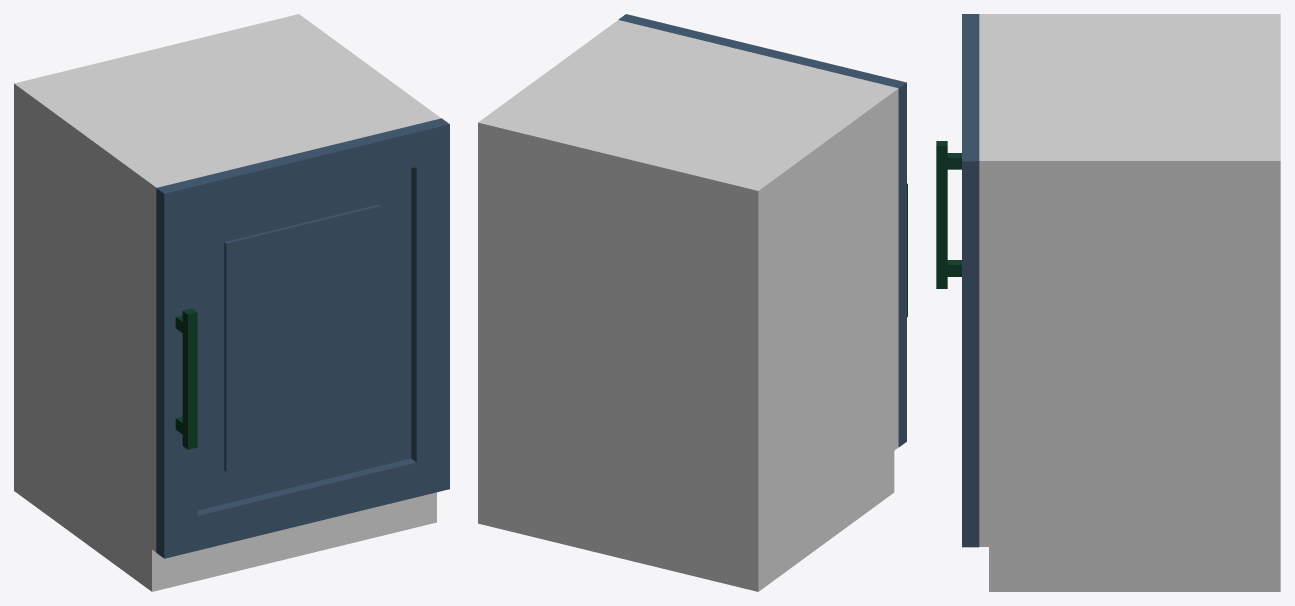
The model's file is CustomMeshCollision_Kitchen_Furniture_Counter_Separate.fbx.
3 renders of one model, left to right at view 1: azimuth 30°, elevation 25°; view 2: azimuth 150°, elevation 25°; view 3: azimuth 270°, elevation 25°, orthographic. The views are drawn at different scales.
Visible parts, largest first — view 1: CounterwithDoor_Door_MeshCollision, CounterwithDoor_Body_MeshCollision; view 2: CounterwithDoor_Body_MeshCollision, CounterwithDoor_Door_MeshCollision; view 3: CounterwithDoor_Body_MeshCollision, CounterwithDoor_Door_MeshCollision.
Boxes of the visible parts, x1,y1,x2,y2 form: CounterwithDoor_Door_MeshCollision: (156, 118, 449, 558); CounterwithDoor_Body_MeshCollision: (14, 14, 440, 591); CounterwithDoor_Body_MeshCollision: (478, 20, 898, 591); CounterwithDoor_Door_MeshCollision: (618, 14, 907, 446); CounterwithDoor_Body_MeshCollision: (979, 14, 1280, 591); CounterwithDoor_Door_MeshCollision: (936, 14, 979, 547).
Bounding box in the file's own units: 60.12 × 82 × 59.45.
